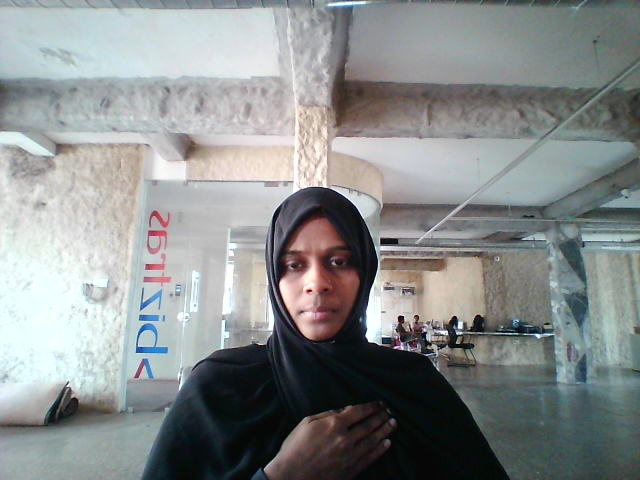PLEASE: (239, 376, 426, 480)
